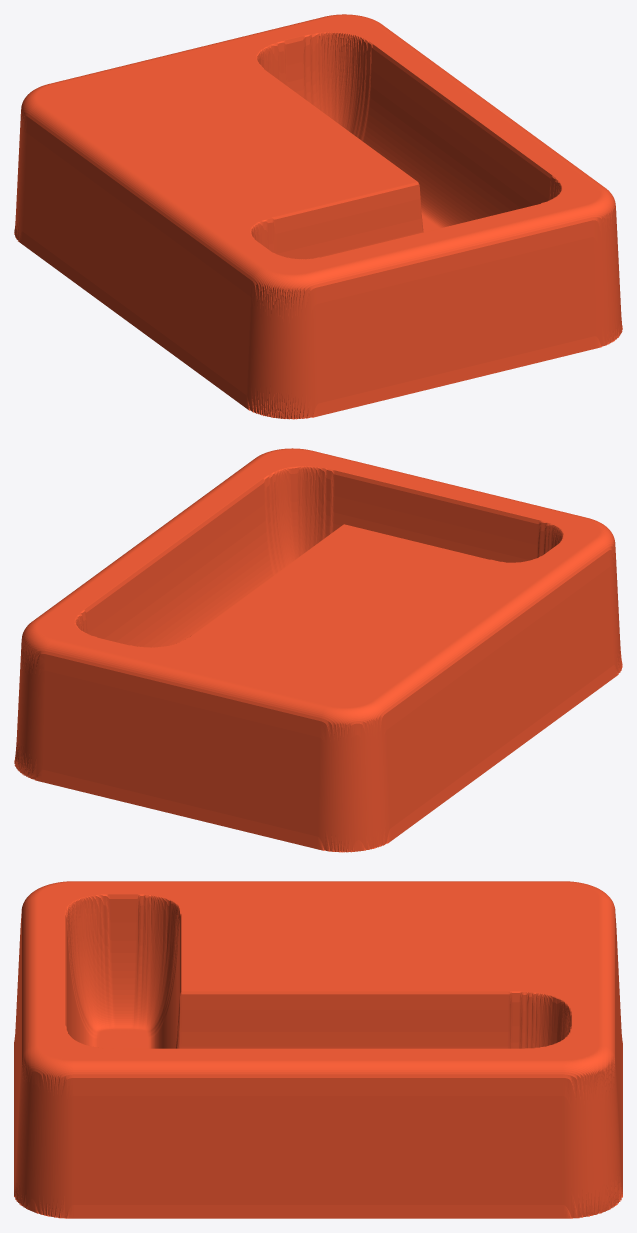
File: mold.glb
3 renders of one model, top to bottom at view 1: azimuth 30°, elevation 25°; view 2: azimuth 150°, elevation 25°; view 3: azimuth 270°, elevation 25°, orthographic. The views are drawn at different scales.
Parts seen in each view (by area): view 1: geometry_0; view 2: geometry_0; view 3: geometry_0.
Part boxes in pixels (left/top/right/bottom): geometry_0: left=14, top=14, right=622, bottom=419; geometry_0: left=14, top=448, right=622, bottom=852; geometry_0: left=14, top=881, right=622, bottom=1218.
Bounding box in the file's own units: 0.071 × 0.0248 × 0.0924.
